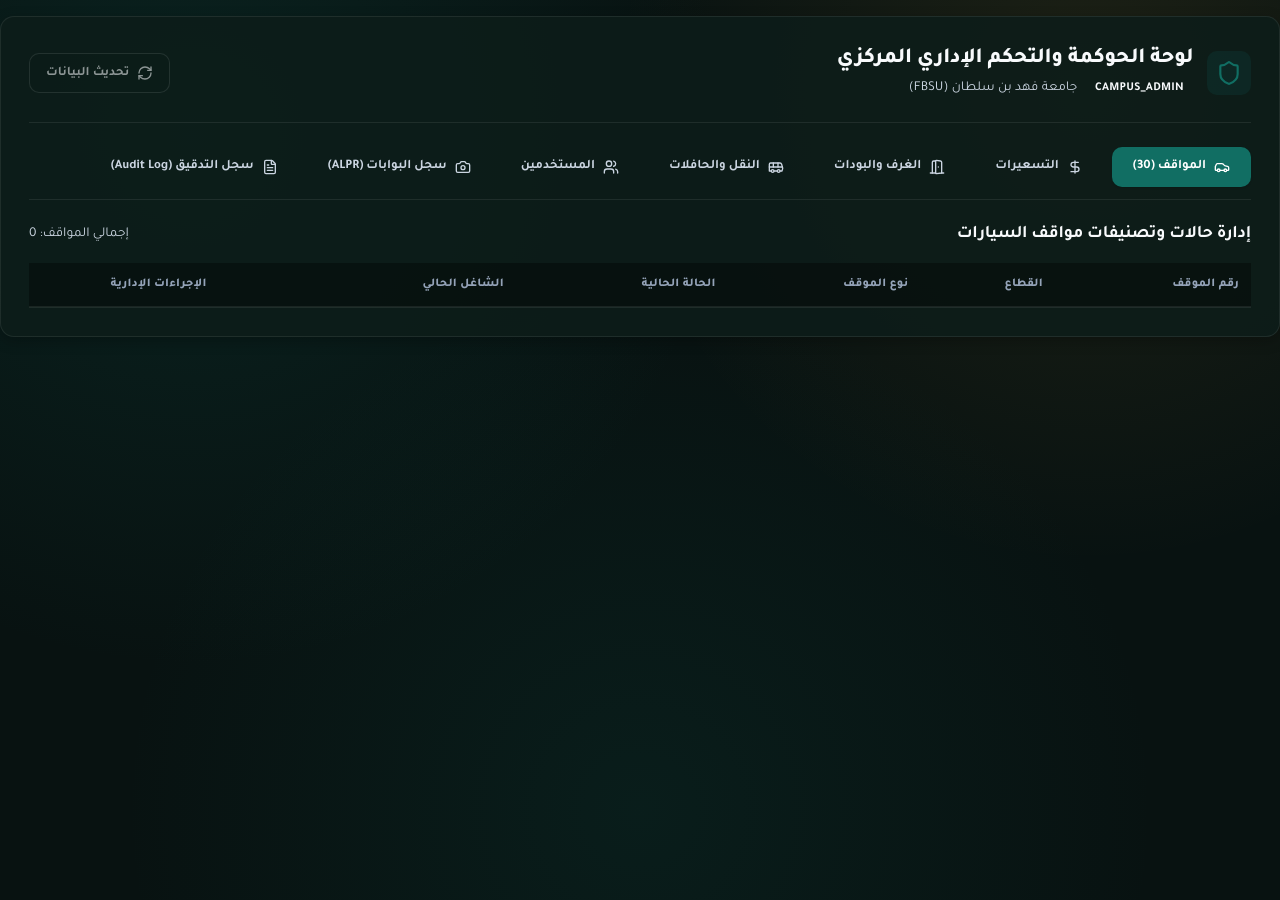
Test case: AdminDashboard Component Tests › switches to tariffs tab and saves tariff updates successfully
This screenshot has width=1280, height=900.
Click the button with test id "admin-tab-tariffs".
click(1039, 167)  # box [974,147,1104,187]
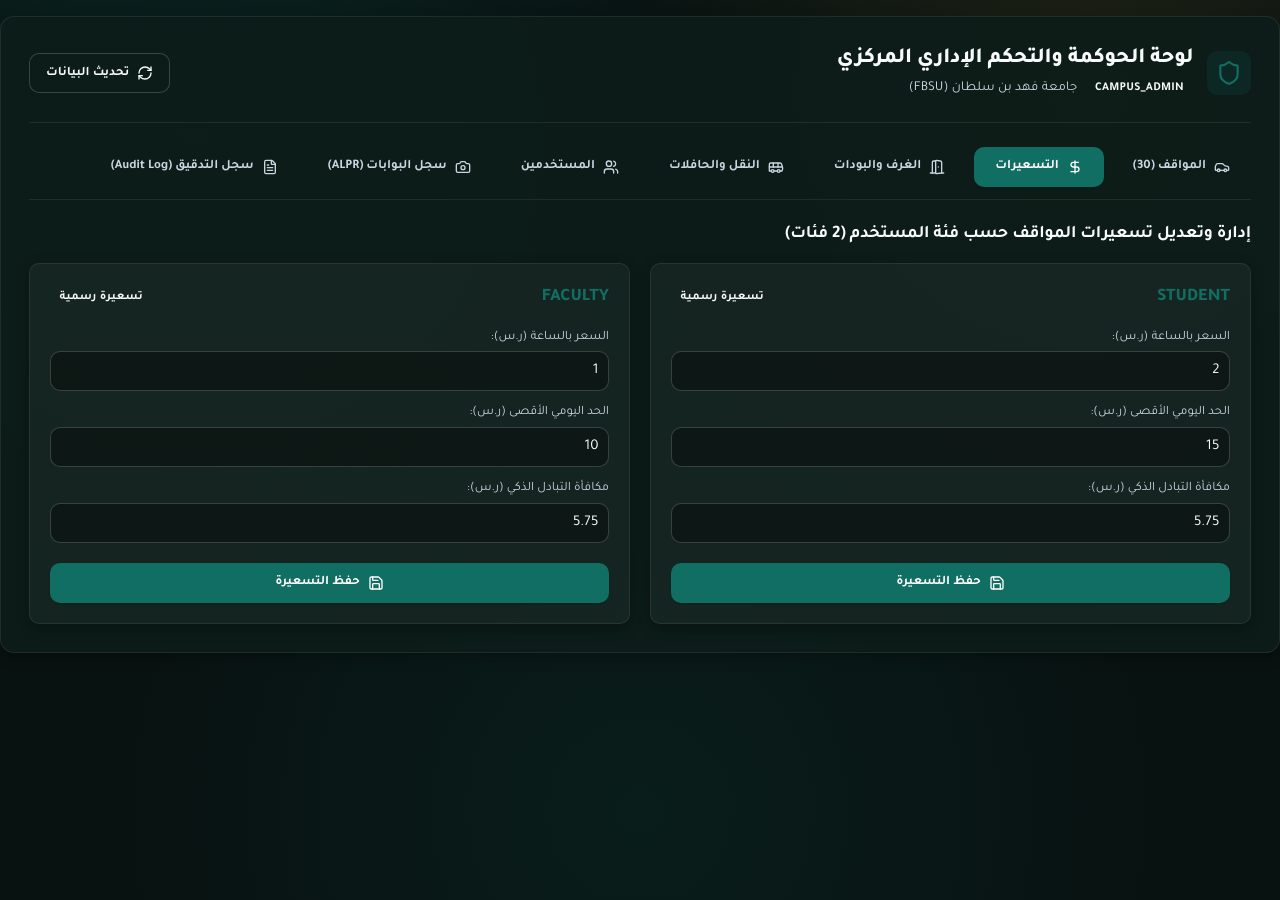
Expected: the element with test id "admin-tariffs-panel" is shown, [29,224,1251,624]
Expected: the text "STUDENT" is shown, [1157,284,1230,312]
Click the button "حفظ التسعيرة" below "STUDENT".
click(950, 583)  # box [671,563,1230,603]
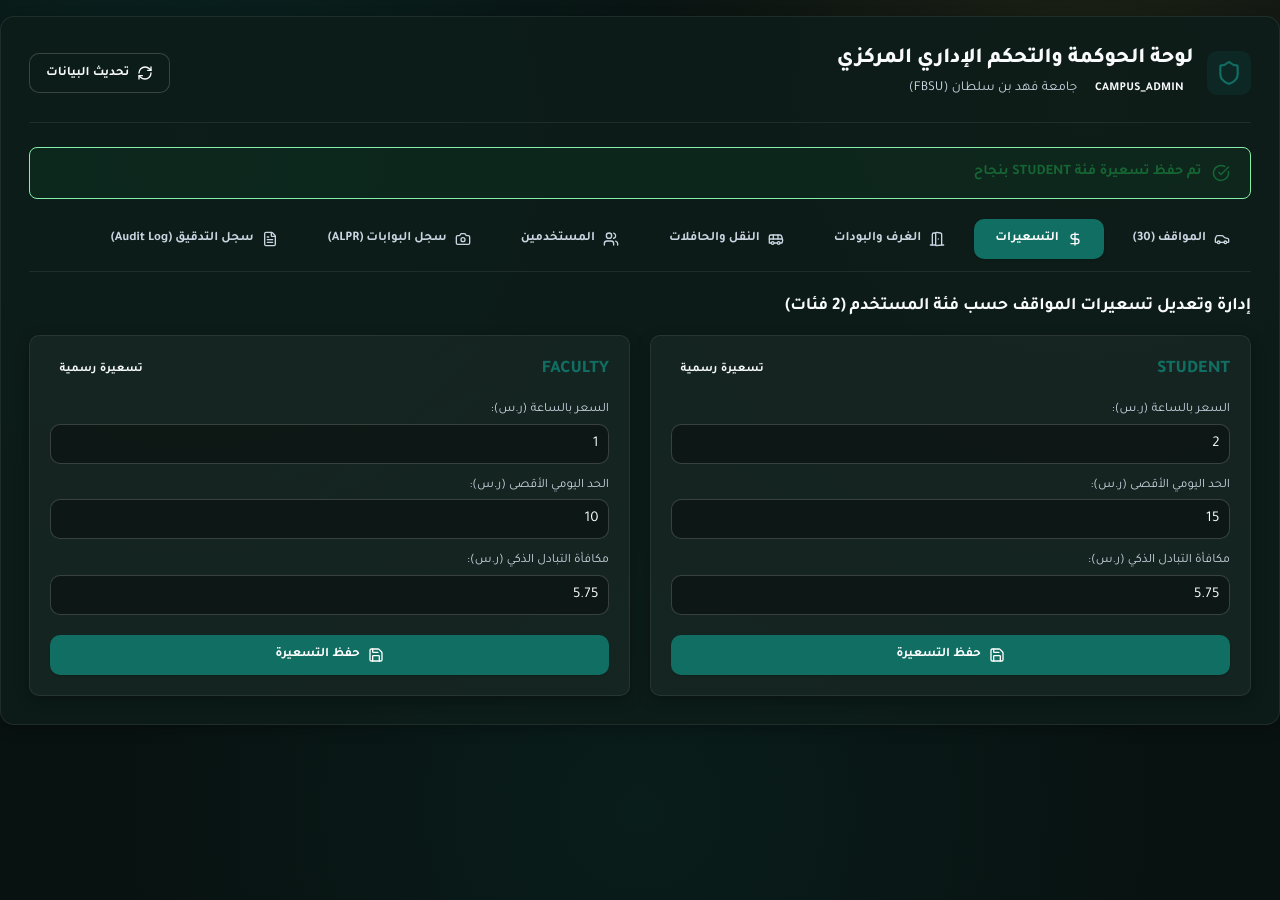
Expected: the element with test id "admin-feedback-banner" is shown, [29,147,1251,199]
